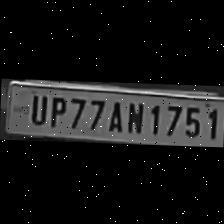1: (202, 103, 220, 138), (146, 100, 162, 135)
5: (179, 101, 201, 138)
7: (160, 100, 180, 136), (65, 93, 85, 128), (84, 95, 104, 130)
A: (104, 94, 124, 132)
N: (123, 96, 145, 134)
P: (44, 92, 66, 126)
U: (26, 90, 46, 124)
